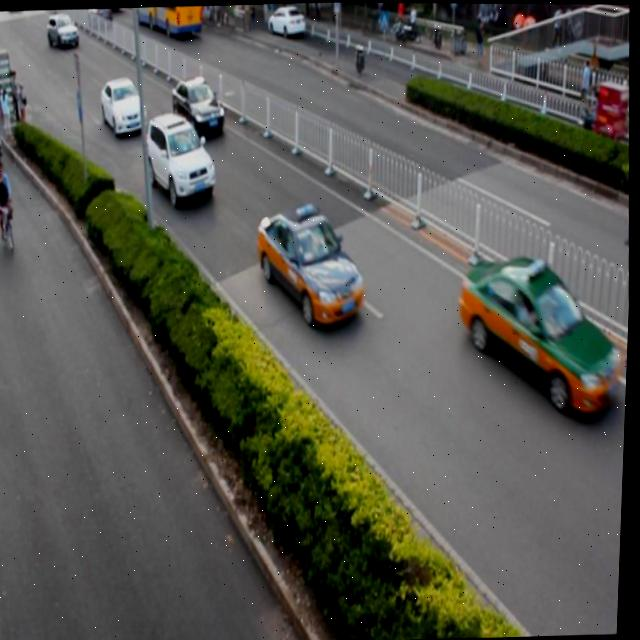car: (454, 249, 626, 418), (257, 199, 369, 328), (141, 110, 219, 209), (168, 74, 227, 140), (99, 75, 149, 137), (265, 2, 306, 40)
van: (130, 5, 201, 38)
